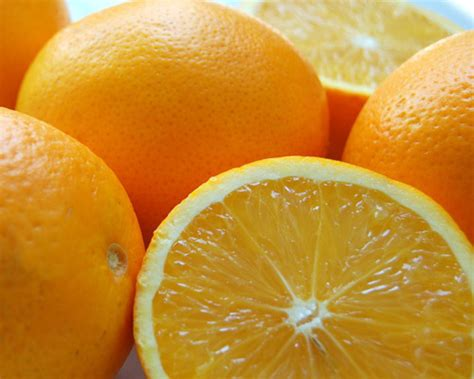orange: (11, 1, 337, 169), (1, 103, 144, 377)
